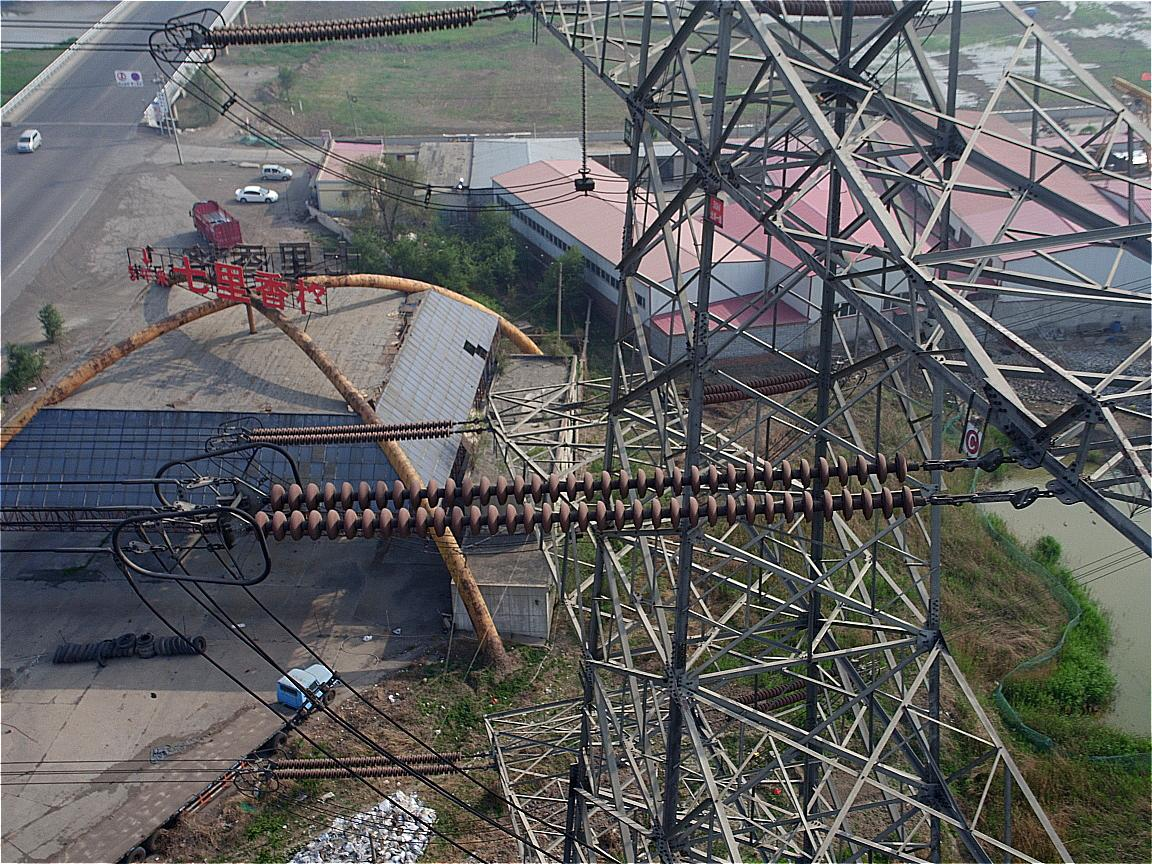insultor1: (252, 450, 915, 541)
insultor2: (210, 4, 480, 47), (272, 750, 464, 781), (250, 418, 455, 447)
